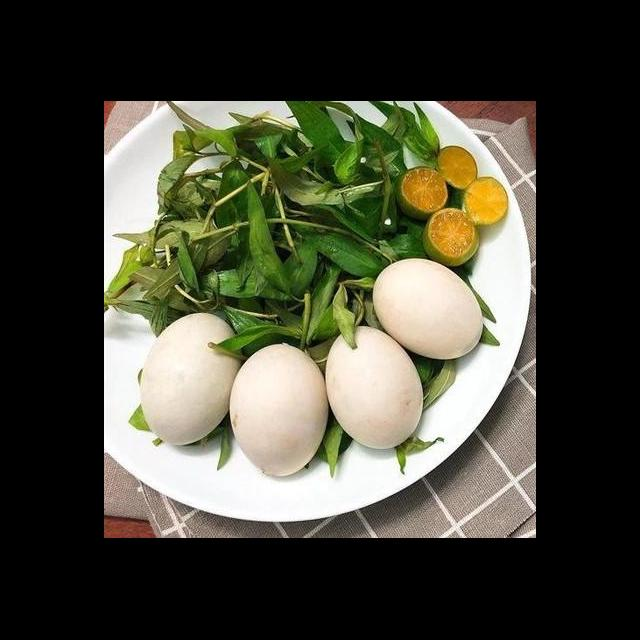rau ram: (105, 102, 443, 364), (307, 404, 360, 476), (405, 348, 460, 414)
trung: (137, 310, 246, 452), (227, 342, 331, 482), (322, 322, 425, 452), (369, 254, 486, 364)
